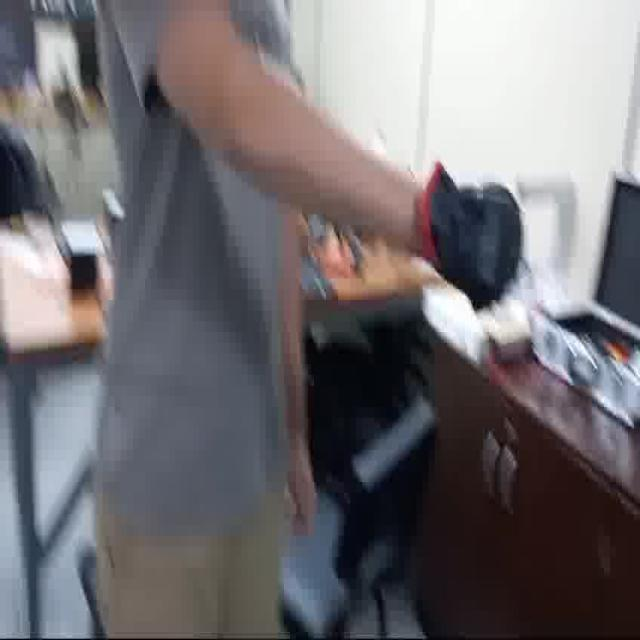Gloves: (419, 159, 523, 310)
